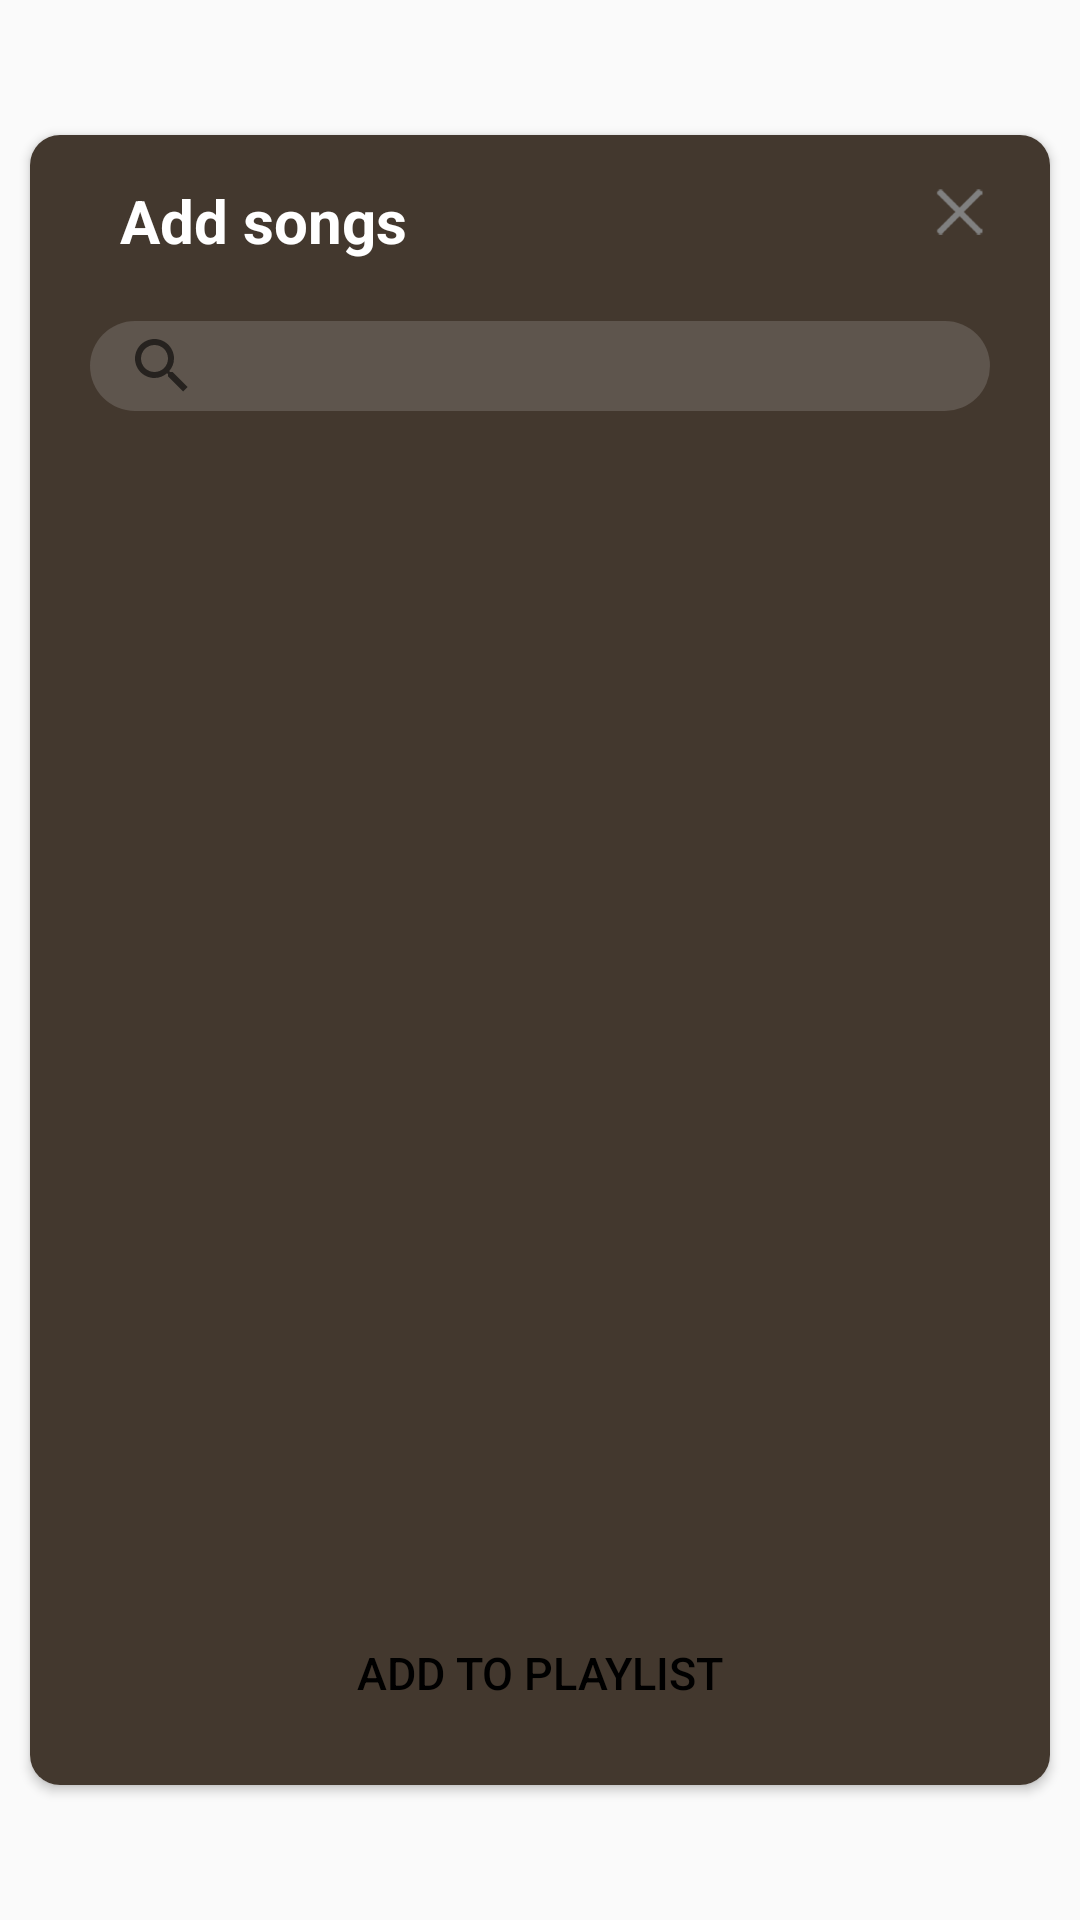

Icons on this 1080×1920 Android screen, each with the point to tap as point (x, y):
close: point (960, 212)
